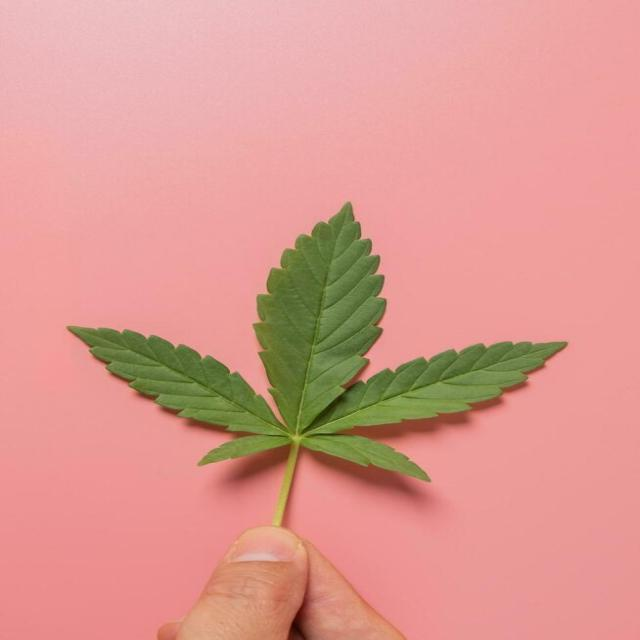cannabis: (67, 203, 567, 528)
